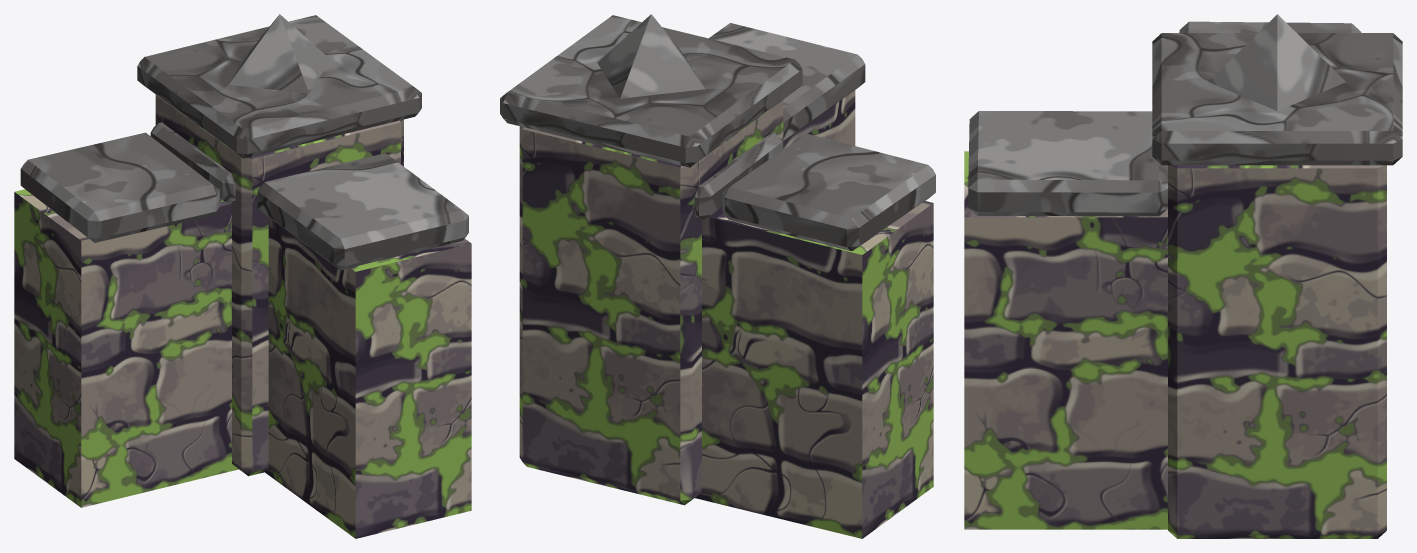
File: stone_wall_corner.glb
The picture shows the model from 3 angles, left to right: view 1: azimuth 30°, elevation 25°; view 2: azimuth 150°, elevation 25°; view 3: azimuth 270°, elevation 25°; orthographic projection. The views are drawn at different scales.
Visible parts, largest first — view 1: Wall; view 2: Wall; view 3: Wall.
Boxes of the visible parts, left/top/right/bottom form: Wall: left=14, top=14, right=471, bottom=538; Wall: left=500, top=14, right=935, bottom=538; Wall: left=964, top=14, right=1402, bottom=538.
Size of the model in its own units: 1.4 by 1.7 by 1.4.
2 materials, 2 textured.
